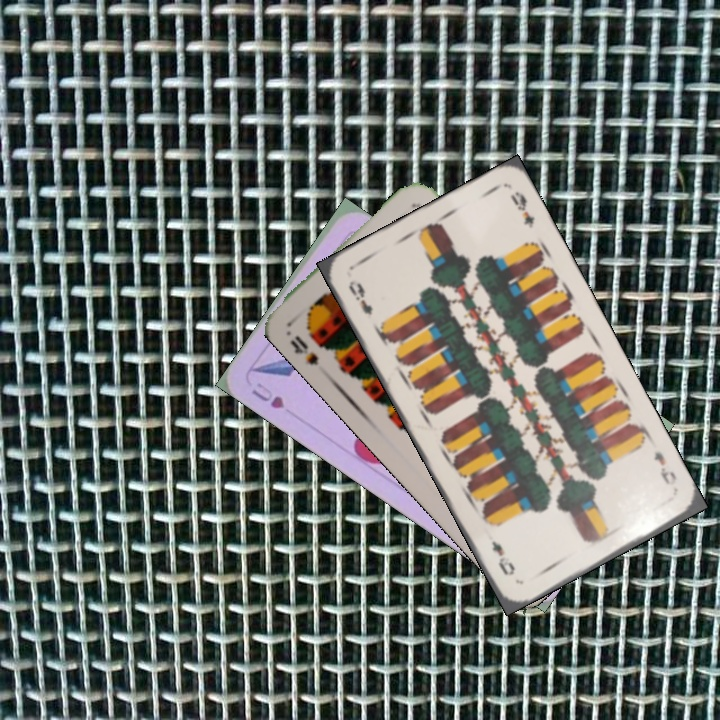E9: (344, 276, 375, 318), (649, 447, 680, 488)
HU: (247, 378, 288, 412)
S8: (286, 331, 321, 368)
